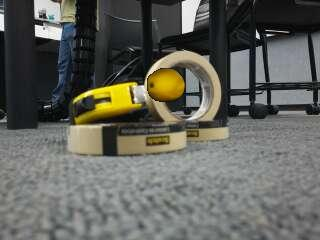lemon: (148, 69, 185, 100)
